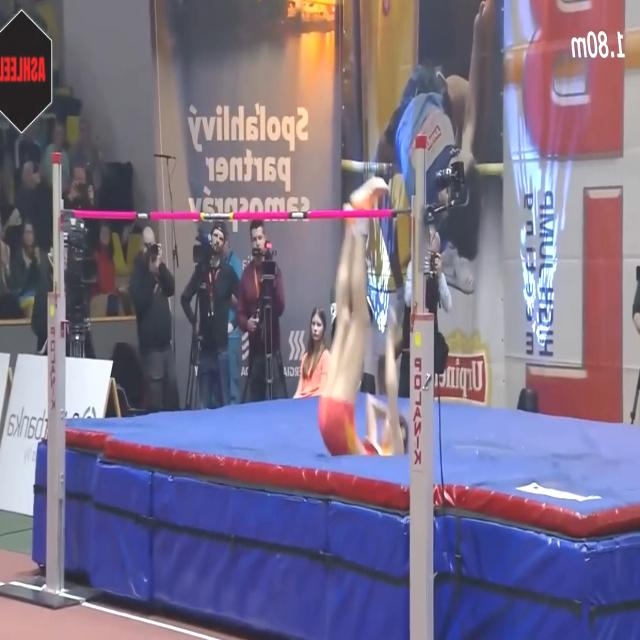land: (318, 174, 406, 455)
